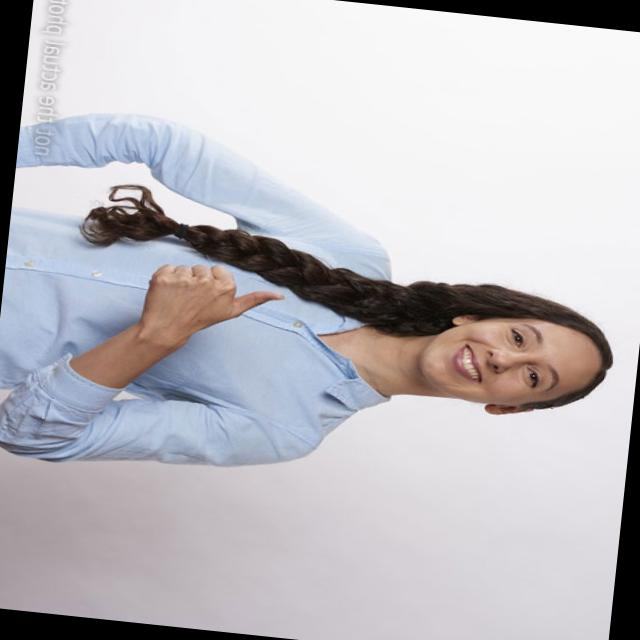Hand: (136, 254, 292, 333)
